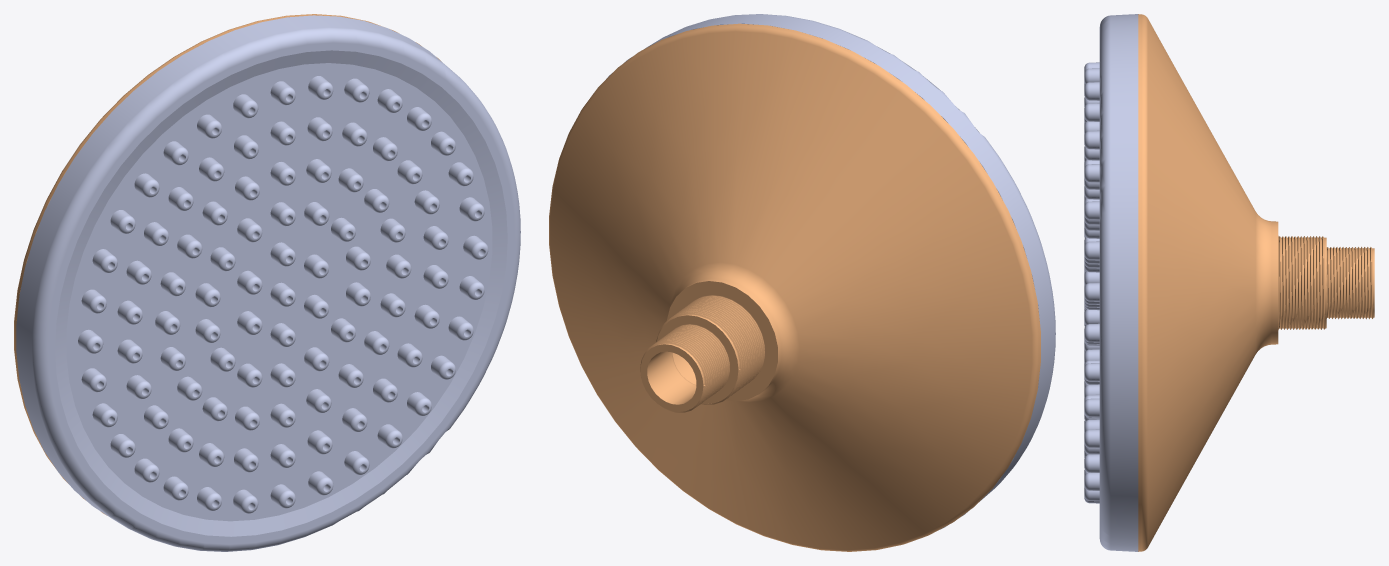
File: Shower Head.gltf
3 views of the same model, side by side, from view 1: azimuth 30°, elevation 25°; view 2: azimuth 150°, elevation 25°; view 3: azimuth 270°, elevation 25° (orthographic). The views are drawn at different scales.
Visible parts, largest first — view 1: 2.19.32 (2), 2.19.32 (1); view 2: 2.19.32 (1), 2.19.32 (2); view 3: 2.19.32 (1), 2.19.32 (2).
Boxes of the visible parts, box(x1,y1,x2,y2) form: 2.19.32 (2): box(16, 15, 520, 551); 2.19.32 (1): box(14, 14, 440, 515); 2.19.32 (1): box(549, 23, 1040, 551); 2.19.32 (2): box(606, 14, 1055, 529); 2.19.32 (1): box(1138, 14, 1374, 551); 2.19.32 (2): box(1084, 14, 1138, 551).
Bounding box in the file's own units: 0.1398 × 0.14 × 0.0755.
